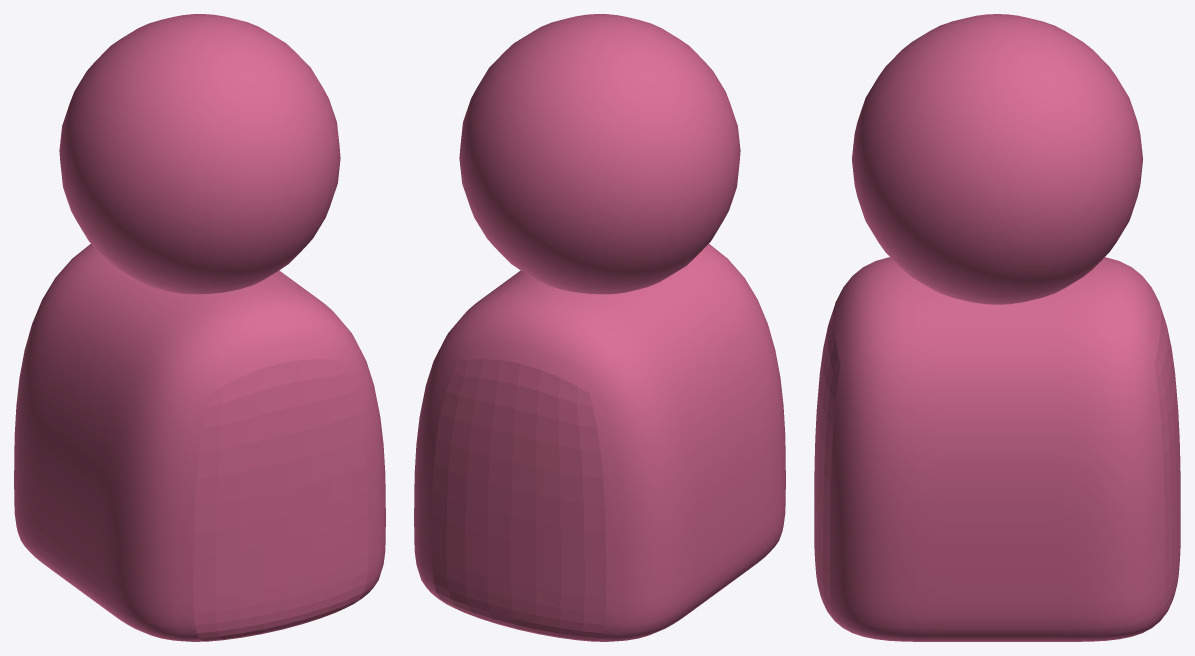
The model's file is speaker.glb.
The picture shows the model from 3 angles, left to right: view 1: azimuth 30°, elevation 25°; view 2: azimuth 150°, elevation 25°; view 3: azimuth 270°, elevation 25°; orthographic projection. The views are drawn at different scales.
Visible parts, largest first — view 1: Cube, Sphere.001; view 2: Cube, Sphere.001; view 3: Cube, Sphere.001.
Boxes of the visible parts, box(x1,y1,x2,y2) form: Cube: box(14, 244, 385, 641); Sphere.001: box(59, 14, 340, 294); Cube: box(414, 244, 785, 641); Sphere.001: box(459, 14, 740, 294); Cube: box(814, 257, 1180, 641); Sphere.001: box(852, 14, 1142, 304).
Size of the model in its own units: 0.0827 by 0.1665 by 0.0972.
